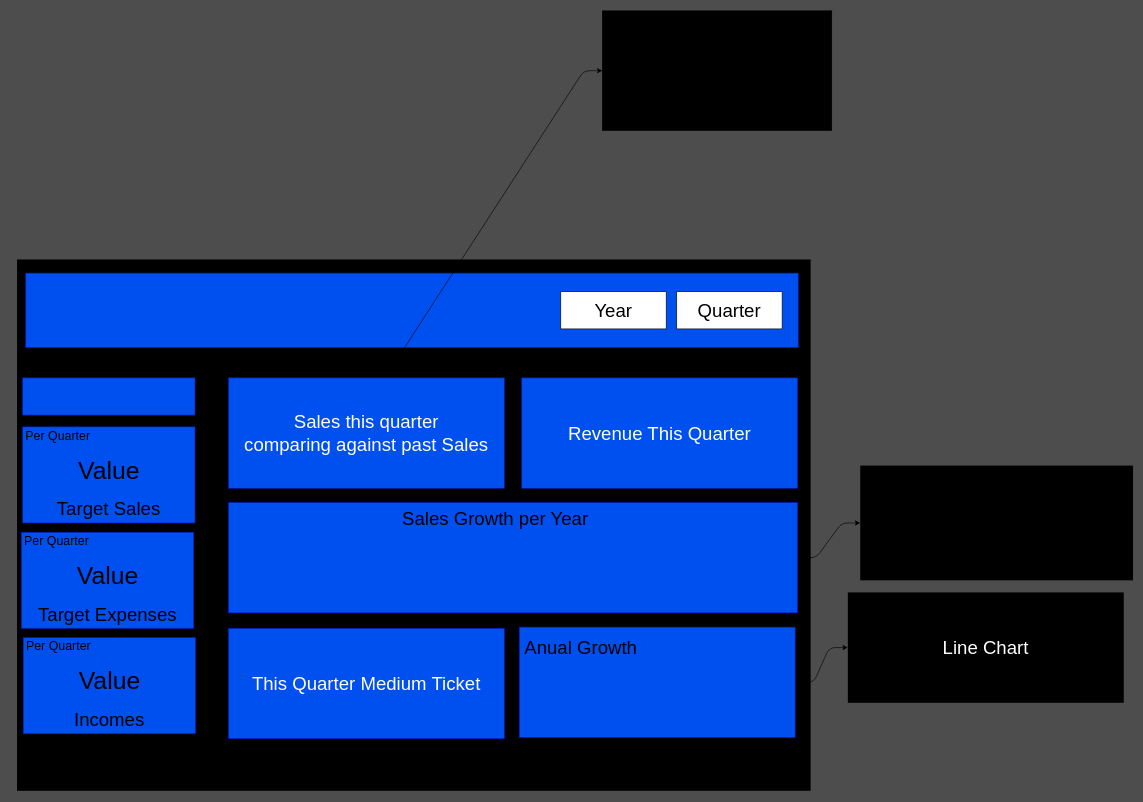
The diagram is 1143 pixels wide and 802 high, and some of its shapes have lost their labels. The shapes that lost their labels are listed below. From the top down, each one's box as (x1, y1, x2, y2) in pixels, then its label:
(22, 377, 195, 415): KPIs
(860, 465, 1133, 580): Bar Chart
